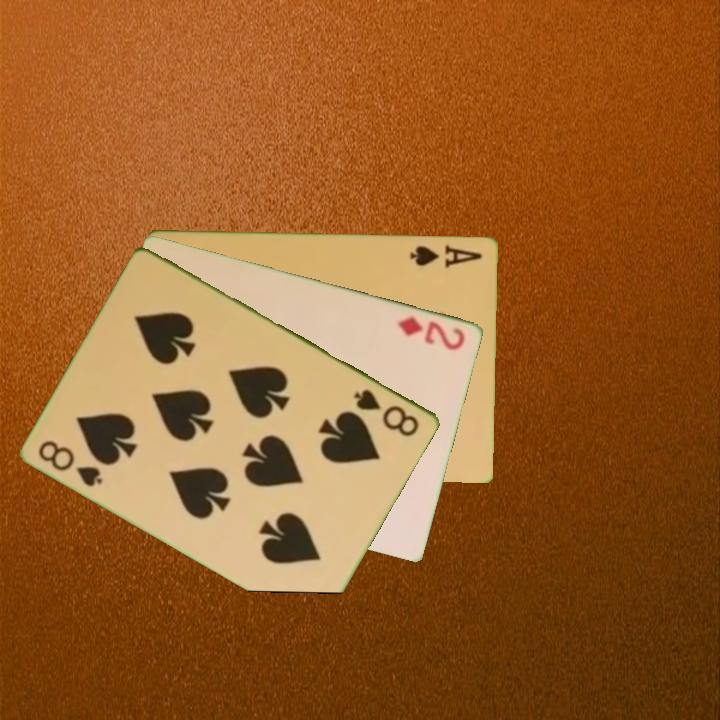2d: (394, 312, 468, 353)
8s: (350, 385, 423, 440), (35, 436, 106, 490)
As: (407, 240, 485, 270)
